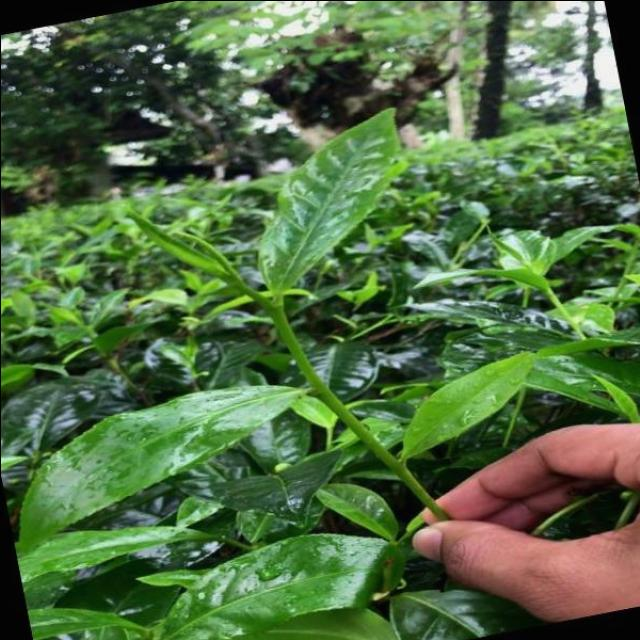Stem: (268, 302, 282, 317)
